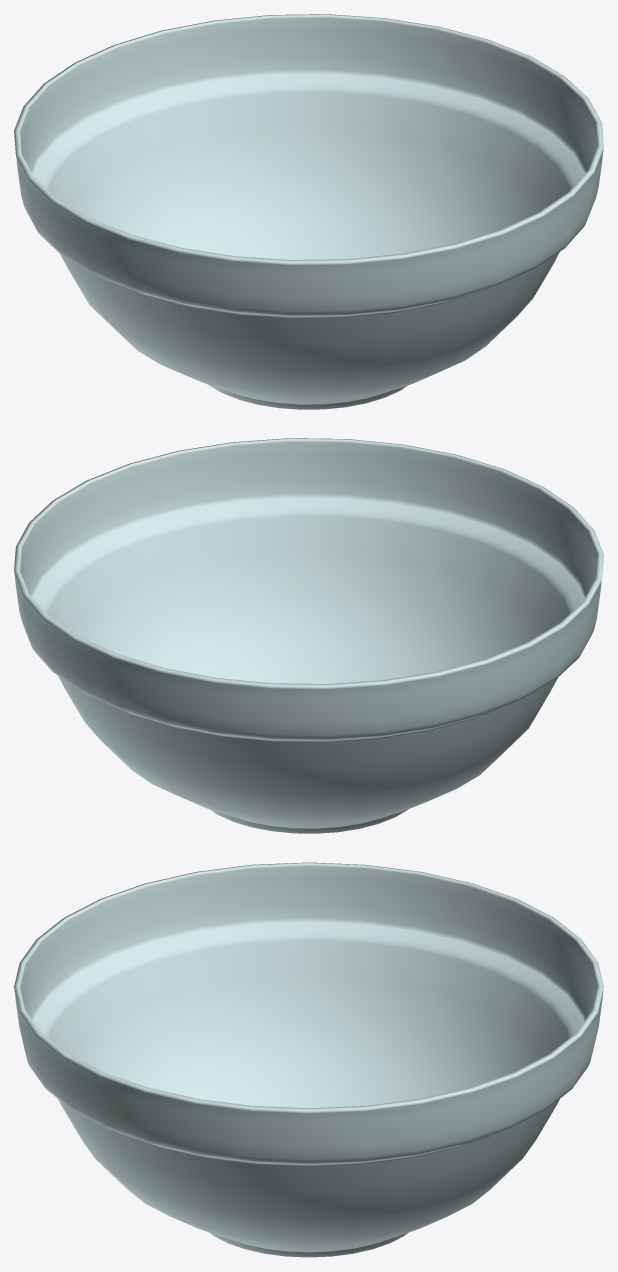
The model's file is mangkok kaca.fbx.
3 renders of one model, top to bottom at view 1: azimuth 30°, elevation 25°; view 2: azimuth 150°, elevation 25°; view 3: azimuth 270°, elevation 25°, orthographic.
Parts seen in each view (by area): view 1: Circle; view 2: Circle; view 3: Circle.
Part boxes in pixels (x1=…): Circle: x1=14, y1=14, x2=603, y2=409; Circle: x1=14, y1=438, x2=603, y2=833; Circle: x1=14, y1=862, x2=603, y2=1257.
Bounding box in the file's own units: 129 × 53.99 × 129.
